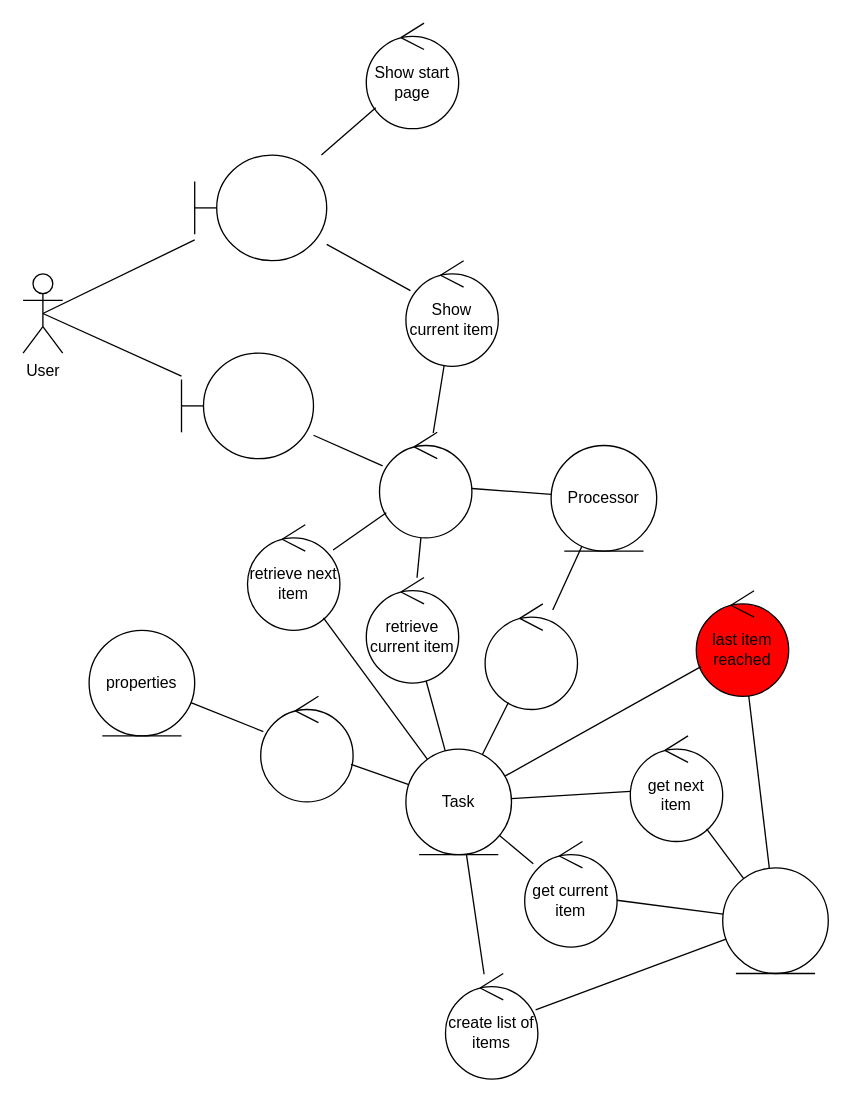
Some shapes in this 851 by 1102 pixel diagram are drawn without their labels. The shapes that lost their labels are listed below. From the top down, each one's centre as x and y in pixels, then its label:
At point (260, 207): "Start page".
At point (247, 405): "Execute action".
At point (425, 484): "Start processing".
At point (531, 656): "execute".
At point (306, 748): "get batch size".
At point (774, 920): "Item".
